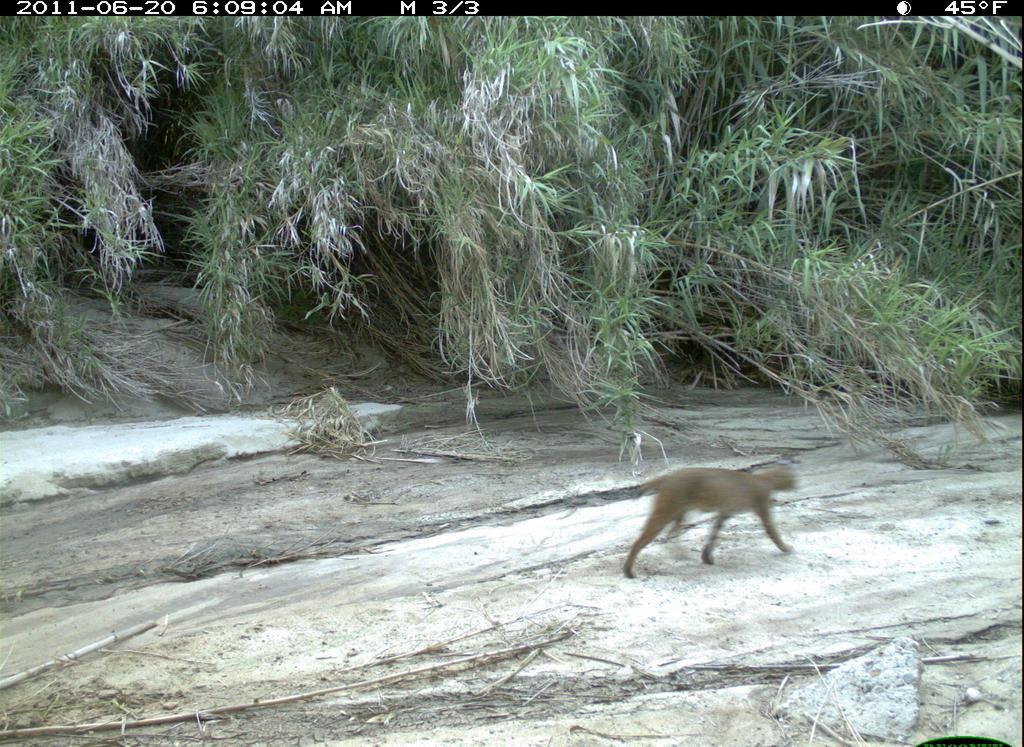bobcat: (614, 445, 824, 589)
